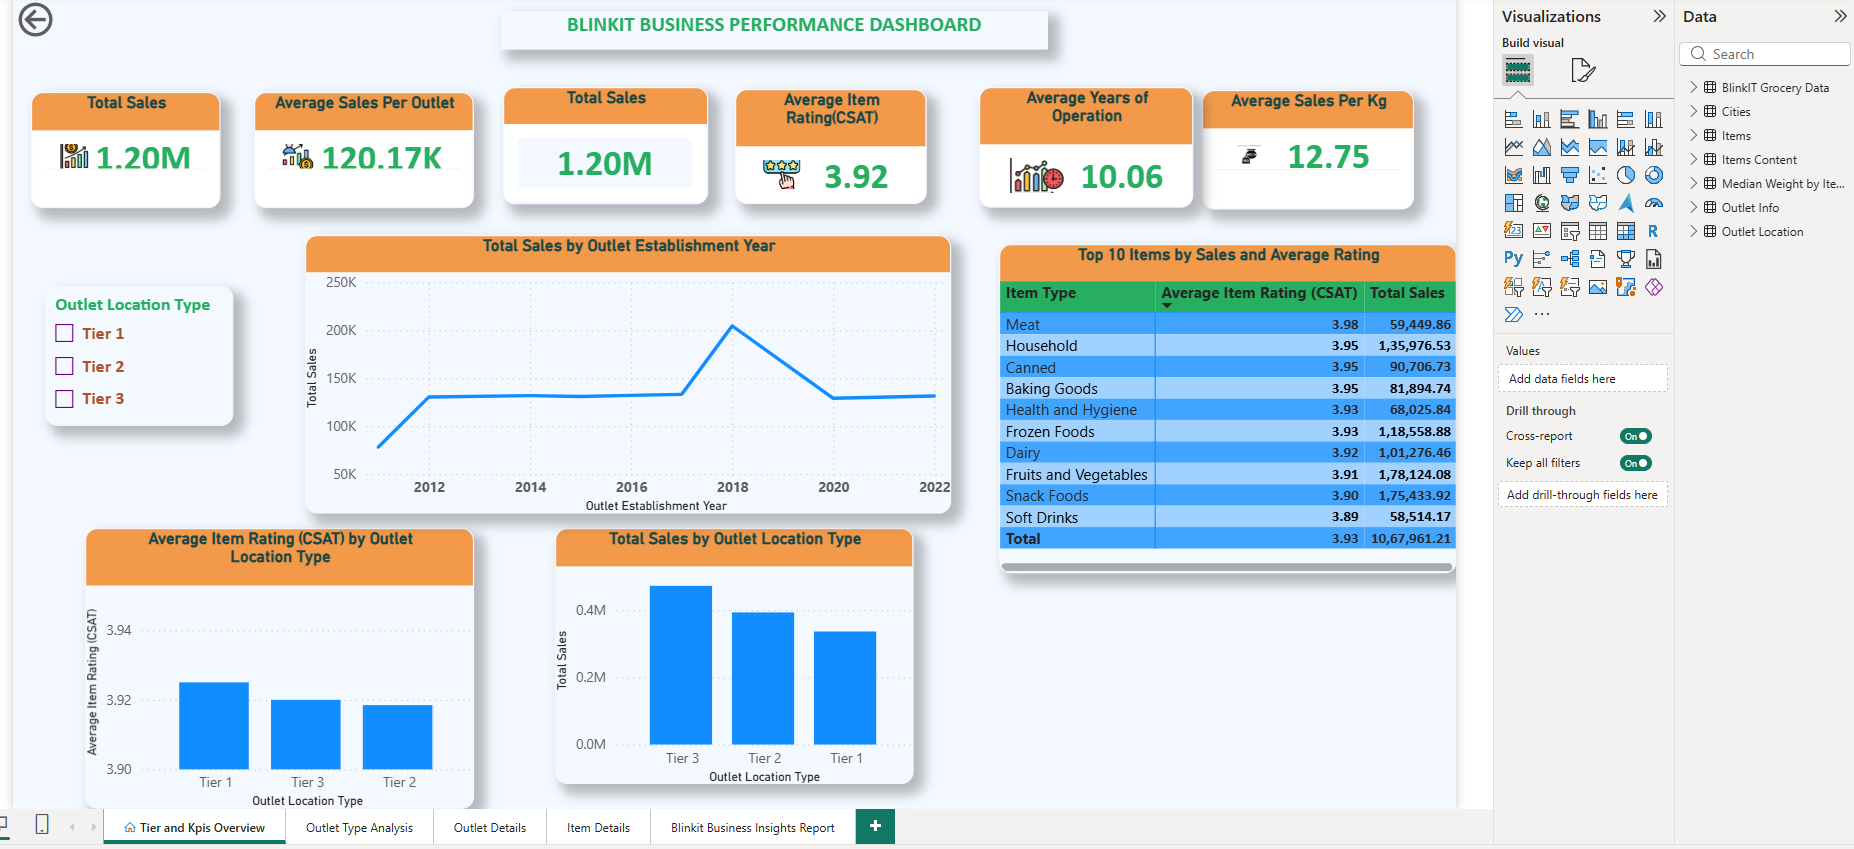

The dashboard page shown, as its layout file describes it:
{"tool":"powerbi","page":{"name":"Tier and Kpis Overview","canvas":[1280,720],"ordinal":0},"visuals":[{"type":"cardVisual","title":"Total Sales","fields":{"Data":["BlinkIT Grocery Data.Total Sales Fixed"]},"box":[16,84,168,103],"z":0,"group":"g1"},{"type":"cardVisual","title":"Average Sales Per Outlet","fields":{"Data":["Outlet Info.Average Sales per Outlet"]},"box":[214,84,195,103],"z":1000,"group":"g1"},{"type":"cardVisual","title":"Average Item Rating(CSAT)","fields":{"Data":["BlinkIT Grocery Data.Average Item Rating (CSAT)"]},"box":[640,82,170,102],"z":2000,"group":"g1"},{"type":"clusteredColumnChart","fields":{"Y":["BlinkIT Grocery Data.Total Sales"],"Category":["Outlet Location.Outlet Location Type"]},"box":[481,471,318,227],"z":3000},{"type":"cardVisual","title":"Average Sales Per Kg","fields":{"Data":["Avg(BlinkIT Grocery Data.Sales per Kg)"]},"box":[1054,83,188,106],"z":4000,"group":"g1"},{"type":"textbox","title":" BLINKIT BUSINESS PERFORMANCE DASHBOARD ","box":[432.3,12.3,484.6,33.8],"z":5000},{"type":"cardVisual","title":"Average Years of Operation","fields":{"Data":["Avg(Outlet Info.Years of Operation)"]},"box":[857,80,190,107],"z":6000,"group":"g1"},{"type":"slicer","fields":{"Values":["Outlet Location.Outlet Location Type"]},"box":[28,256,167,124],"z":7000},{"type":"actionButton","box":[0,0,100,40],"z":8000},{"type":"cardVisual","title":"Total Sales","fields":{"Data":["BlinkIT Grocery Data.Total Sales"]},"box":[434.2,80,181.8,103.6],"z":9000,"group":"g1"},{"type":"columnChart","fields":{"Category":["Outlet Location.Outlet Location Type"],"Y":["BlinkIT Grocery Data.Average Item Rating (CSAT)"]},"box":[64,471,345,249],"z":10000},{"type":"lineChart","fields":{"Category":["Outlet Info.Outlet Establishment Year"],"Y":["BlinkIT Grocery Data.Total Sales"]},"box":[259,211,573,247],"z":11000},{"type":"pivotTable","title":"Top 10 Items by Sales and Average Rating","fields":{"Rows":["Items.Item Type"],"Values":["BlinkIT Grocery Data.Average Item Rating (CSAT)","BlinkIT Grocery Data.Total Sales"]},"box":[873.8,219.2,406,292],"z":12000},{"type":"group","id":"g1","title":"Group 1","box":[16,80,1226,109],"z":12001}]}

Visuals, with their boxes in screenshot pixels (x1, y1, x2, y2):
"Total Sales" cardVisual: select_region(32, 89, 221, 205)
"Average Sales Per Outlet" cardVisual: select_region(255, 89, 474, 205)
"Average Item Rating(CSAT)" cardVisual: select_region(733, 87, 924, 202)
clusteredColumnChart - BlinkIT Grocery Data.Total Sales x Outlet Location.Outlet Location Type: select_region(554, 524, 911, 779)
"Average Sales Per Kg" cardVisual: select_region(1198, 88, 1409, 207)
" BLINKIT BUSINESS PERFORMANCE DASHBOARD " textbox: select_region(500, 9, 1044, 47)
"Average Years of Operation" cardVisual: select_region(977, 85, 1190, 205)
slicer - Outlet Location.Outlet Location Type: select_region(46, 283, 233, 422)
actionButton: select_region(14, 0, 127, 40)
"Total Sales" cardVisual: select_region(502, 85, 706, 201)
columnChart - Outlet Location.Outlet Location Type x BlinkIT Grocery Data.Average Item Rating (CSAT): select_region(86, 524, 474, 803)
lineChart - Outlet Info.Outlet Establishment Year x BlinkIT Grocery Data.Total Sales: select_region(305, 232, 949, 509)
"Top 10 Items by Sales and Average Rating" pivotTable: select_region(995, 241, 1451, 569)
"Group 1" group: select_region(32, 85, 1409, 207)
